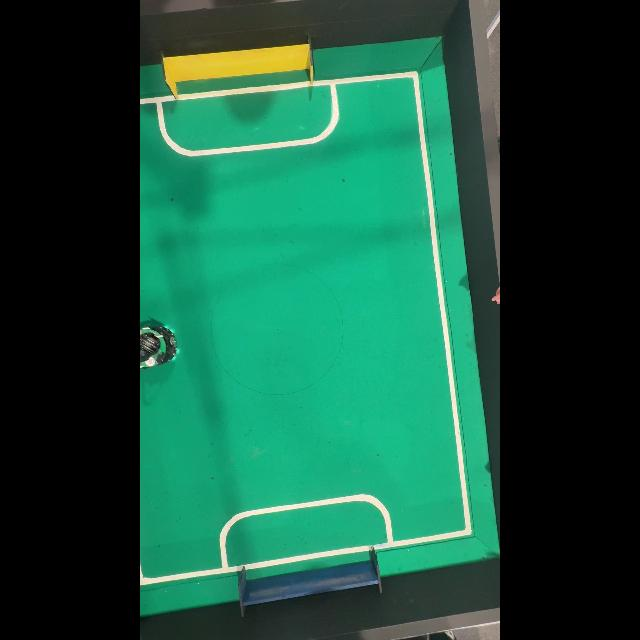goal: (238, 546, 382, 617), (162, 40, 313, 98)
robot: (140, 322, 177, 369)
